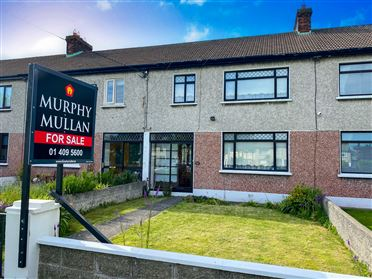property sign: (24, 56, 100, 177)
